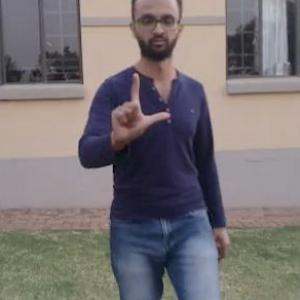land_hand: (106, 66, 174, 147)
